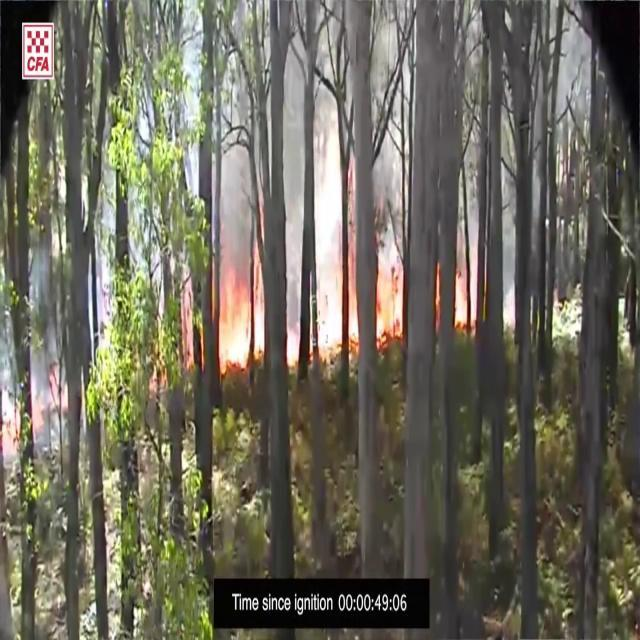Fire: (212, 233, 266, 374)
Smoke: (282, 0, 425, 364)
